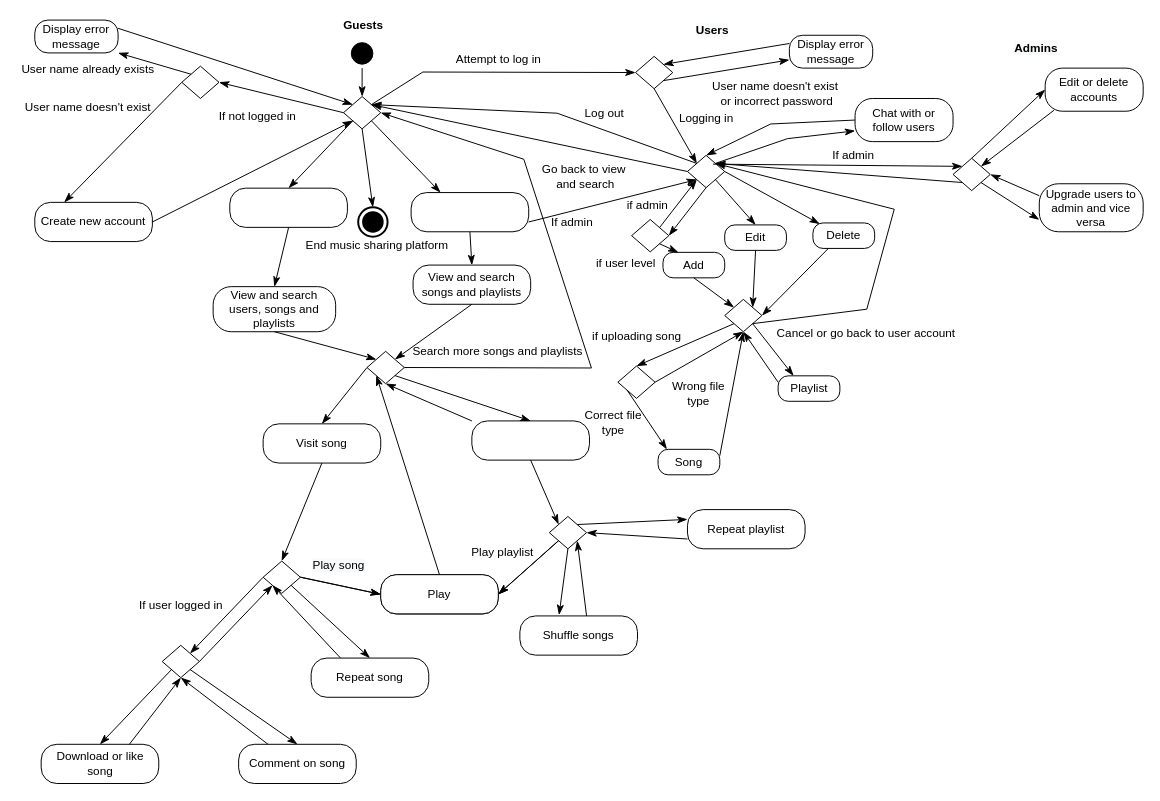
This 1160x801 diagram has some shape labels left out. The shapes that lost their labels are listed below. From the top down, each one's centre as x and y in pixels, then its label:
[288,207]: Visit homepage
[469,212]: Visit user page
[530,440]: Visit playlist
